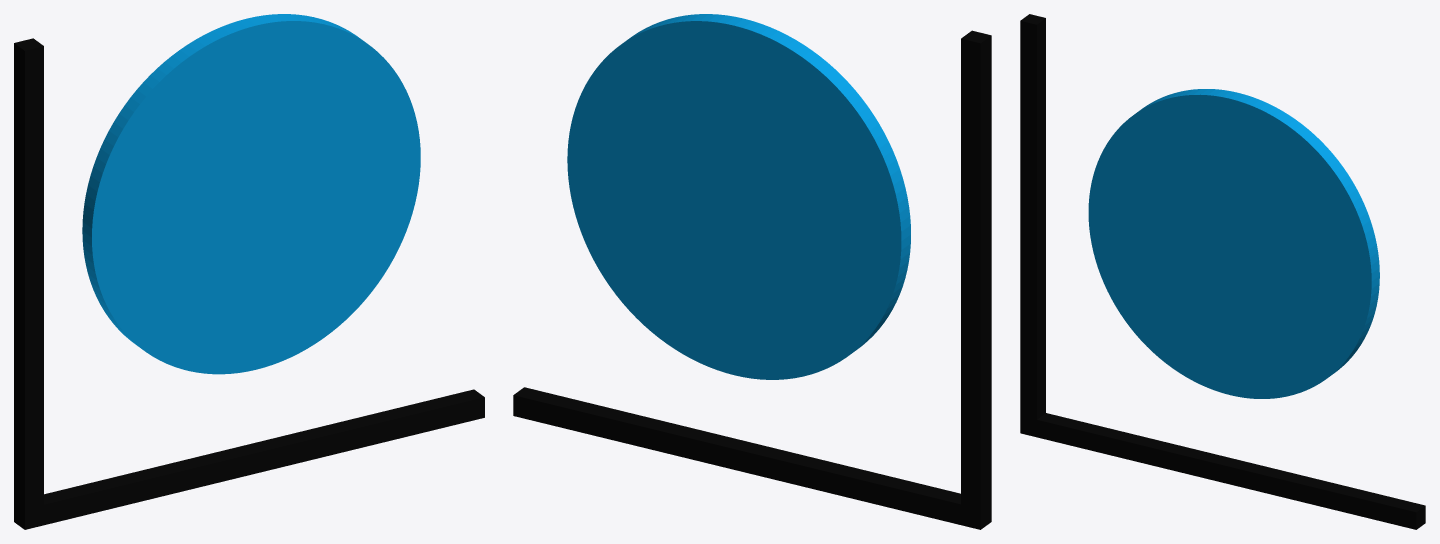
Rendered from circulo.fbx.
3 renders of one model, left to right at view 1: azimuth 30°, elevation 25°; view 2: azimuth 150°, elevation 25°; view 3: azimuth 330°, elevation 25°, orthographic. The views are drawn at different scales.
Parts seen in each view (by area): view 1: Mesh_1.002, Mesh_0.005; view 2: Mesh_1.002, Mesh_0.005; view 3: Mesh_1.002, Mesh_0.005.
Boxes of the visible parts, x1=… form: Mesh_1.002: x1=82, y1=14, x2=420, y2=374; Mesh_0.005: x1=14, y1=38, x2=484, y2=529; Mesh_1.002: x1=567, y1=14, x2=910, y2=379; Mesh_0.005: x1=513, y1=30, x2=991, y2=529; Mesh_1.002: x1=1088, y1=89, x2=1379, y2=398; Mesh_0.005: x1=1020, y1=14, x2=1425, y2=529.
Size of the model in its own units: 5.59 by 5.57 by 0.3281.
